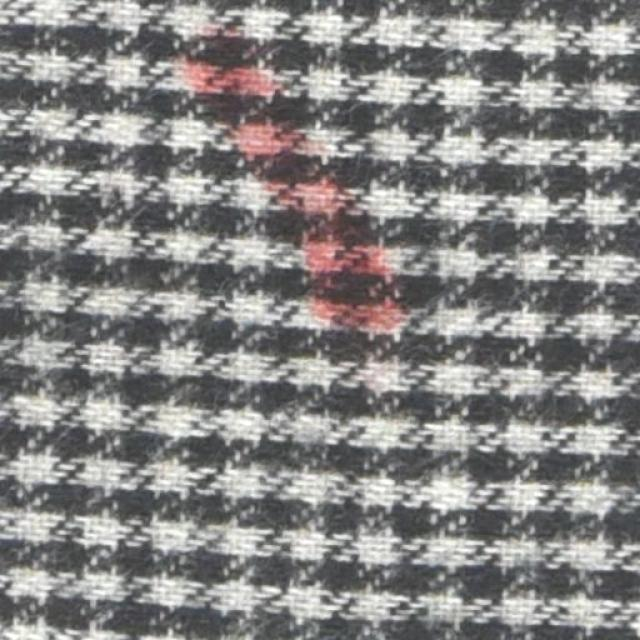Stain: (196, 43, 410, 353)
